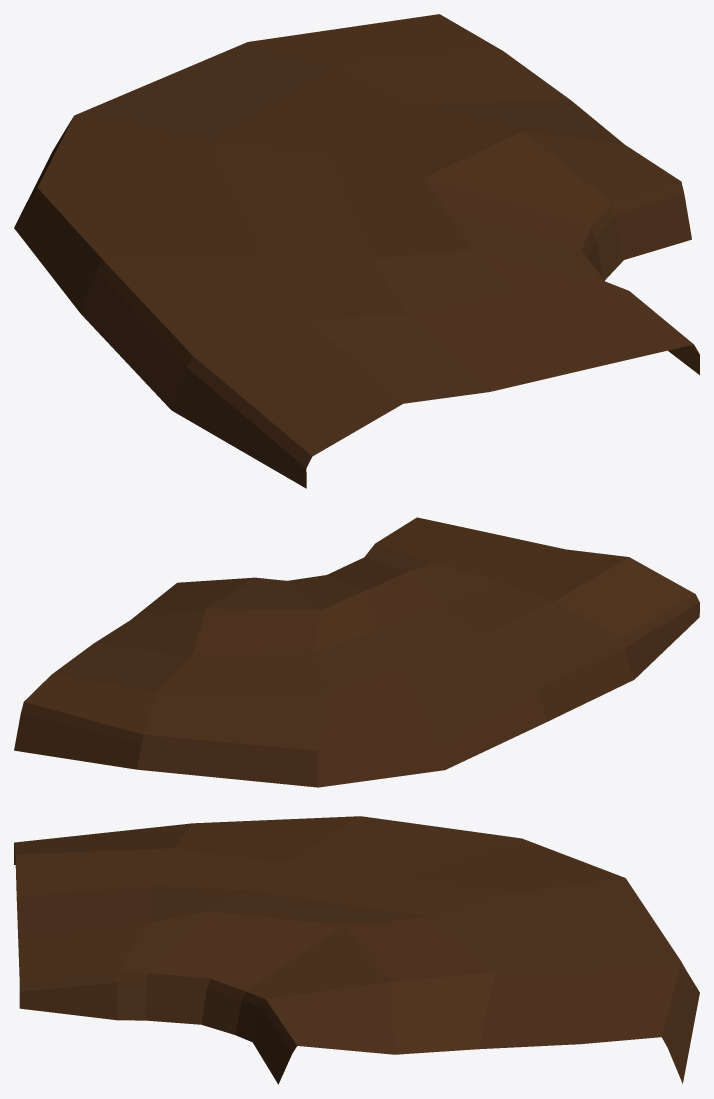
The model's file is RoadDirty_8.fbx.
The picture shows the model from 3 angles, top to bottom: view 1: azimuth 30°, elevation 25°; view 2: azimuth 150°, elevation 25°; view 3: azimuth 270°, elevation 25°; orthographic projection. The views are drawn at different scales.
Parts seen in each view (by area): view 1: RoadDirty_8; view 2: RoadDirty_8; view 3: RoadDirty_8.
Boxes of the visible parts, <box> form: RoadDirty_8: <box>14,14,699,488</box>; RoadDirty_8: <box>14,517,699,787</box>; RoadDirty_8: <box>14,816,699,1084</box>.
Bounding box in the file's own units: 423 × 65.02 × 543.
